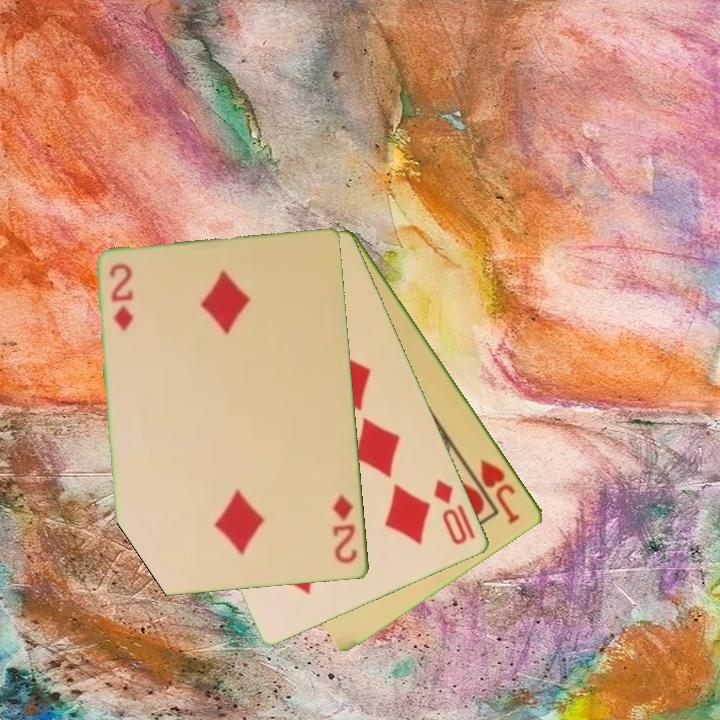10d: (430, 475, 471, 548)
2d: (330, 490, 361, 567), (106, 260, 137, 334)
Jh: (477, 456, 523, 528)
